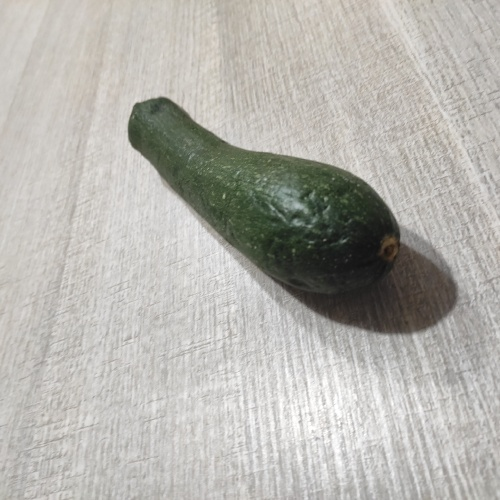zucchine: (128, 100, 401, 295)
